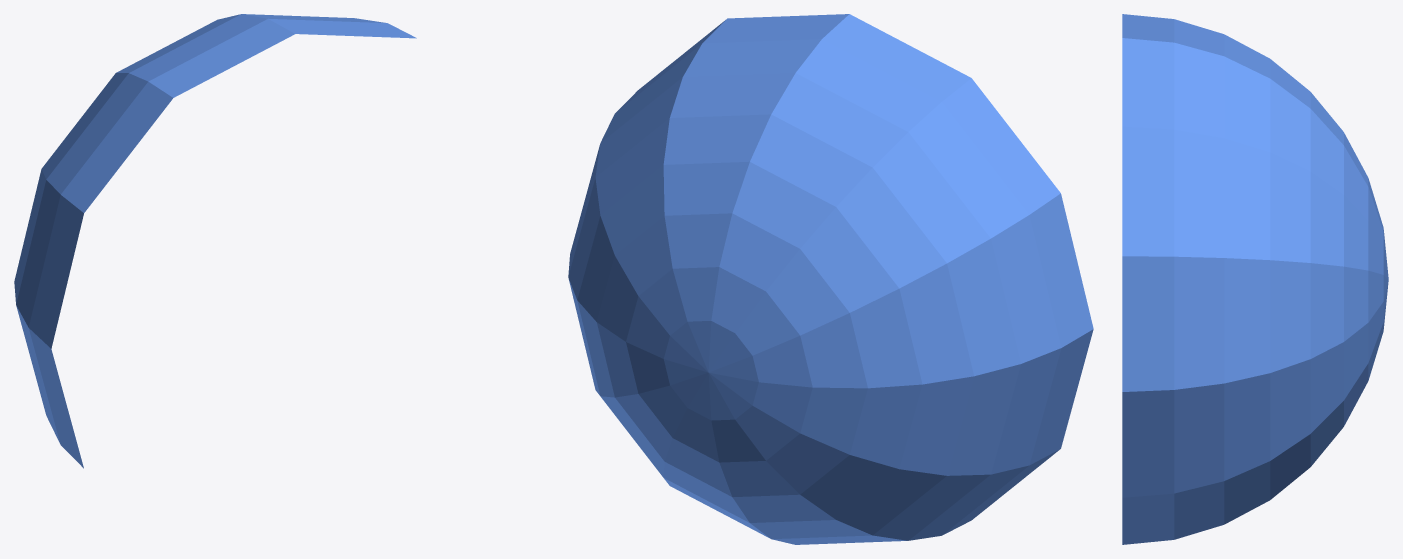
Rendered from blue-shell.glb.
3 views of the same model, side by side, from view 1: azimuth 30°, elevation 25°; view 2: azimuth 150°, elevation 25°; view 3: azimuth 270°, elevation 25° (orthographic). The views are drawn at different scales.
Parts seen in each view (by area): view 1: item; view 2: item; view 3: item.
Part boxes in pixels (x1=…): item: x1=14, y1=14, x2=416, y2=468; item: x1=568, y1=14, x2=1093, y2=544; item: x1=1122, y1=14, x2=1388, y2=544.
Bounding box in the file's own units: 2 × 2 × 1.
